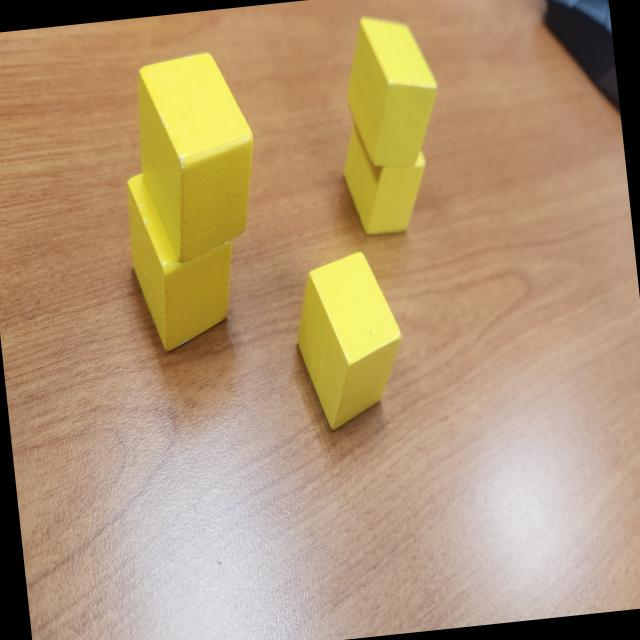yellow: (129, 48, 266, 264), (122, 156, 244, 355), (288, 250, 410, 430), (338, 9, 446, 173), (338, 116, 433, 238)
